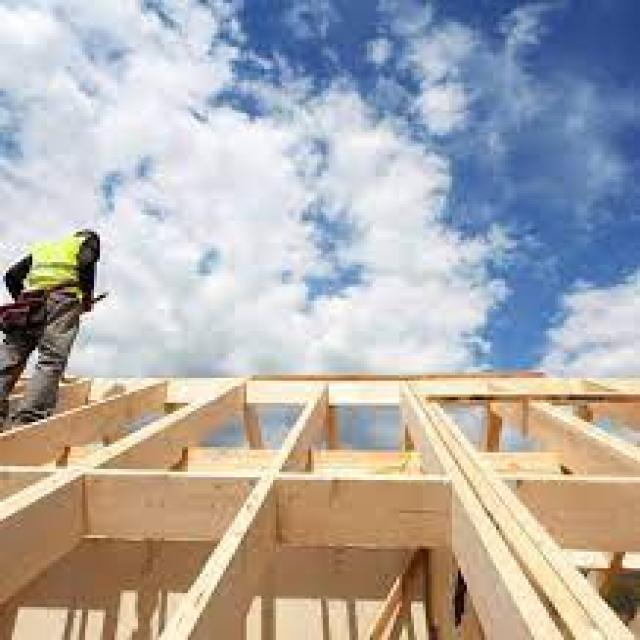Reflective-Jacket: (6, 226, 111, 317)
